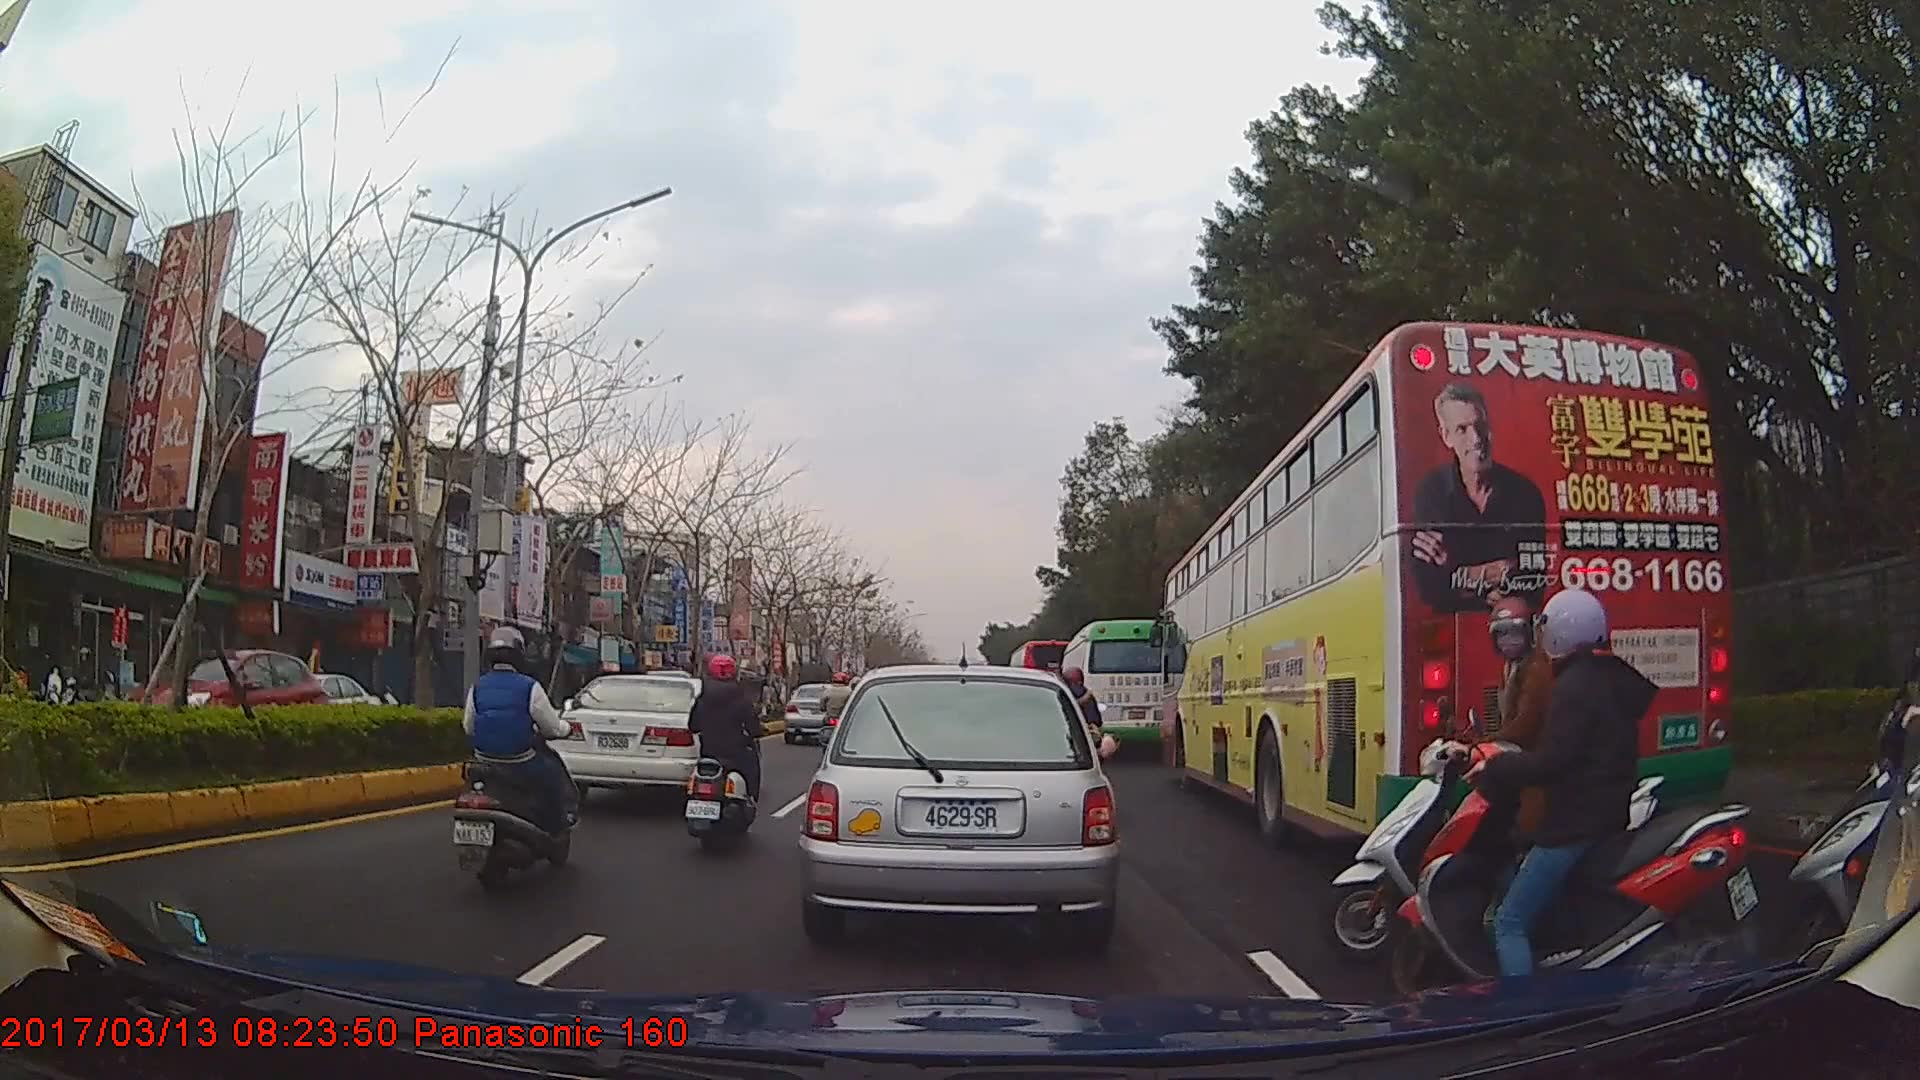rider: (1384, 584, 1760, 1045), (1315, 598, 1659, 977), (1786, 545, 1920, 977), (453, 629, 582, 886), (685, 651, 765, 856), (1057, 665, 1118, 785), (826, 671, 862, 758)
vehicle: (1163, 317, 1733, 853), (796, 661, 1118, 945), (547, 672, 759, 810), (116, 647, 328, 759), (1058, 617, 1187, 761), (246, 670, 376, 737)
